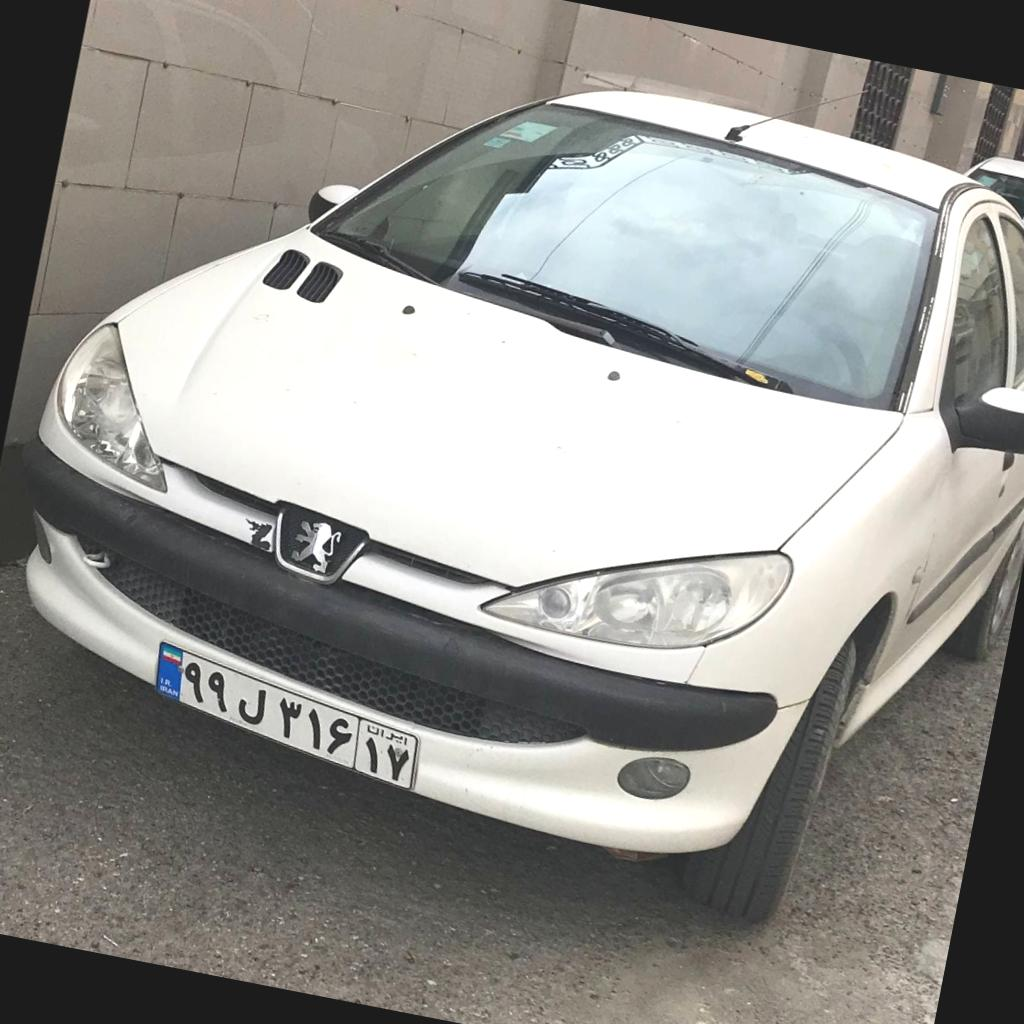Plates: (156, 642, 417, 788)
